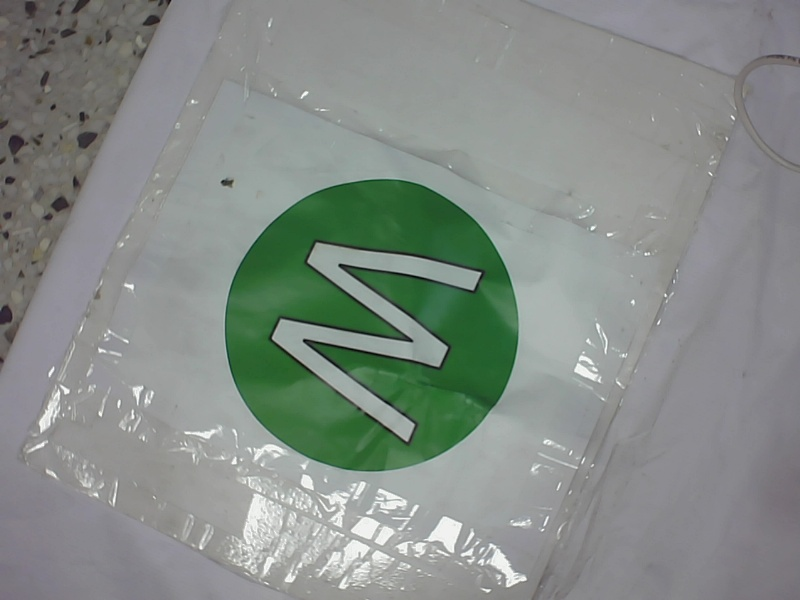areaB: (199, 176, 537, 478)
